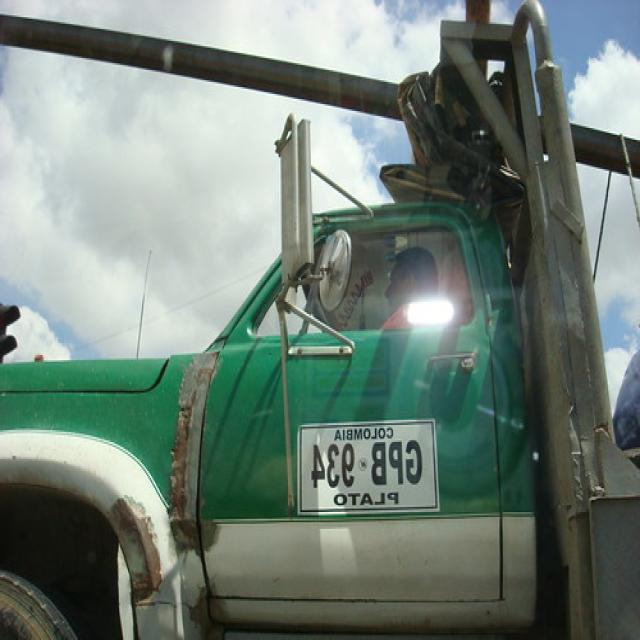placas: (303, 436, 430, 489)
